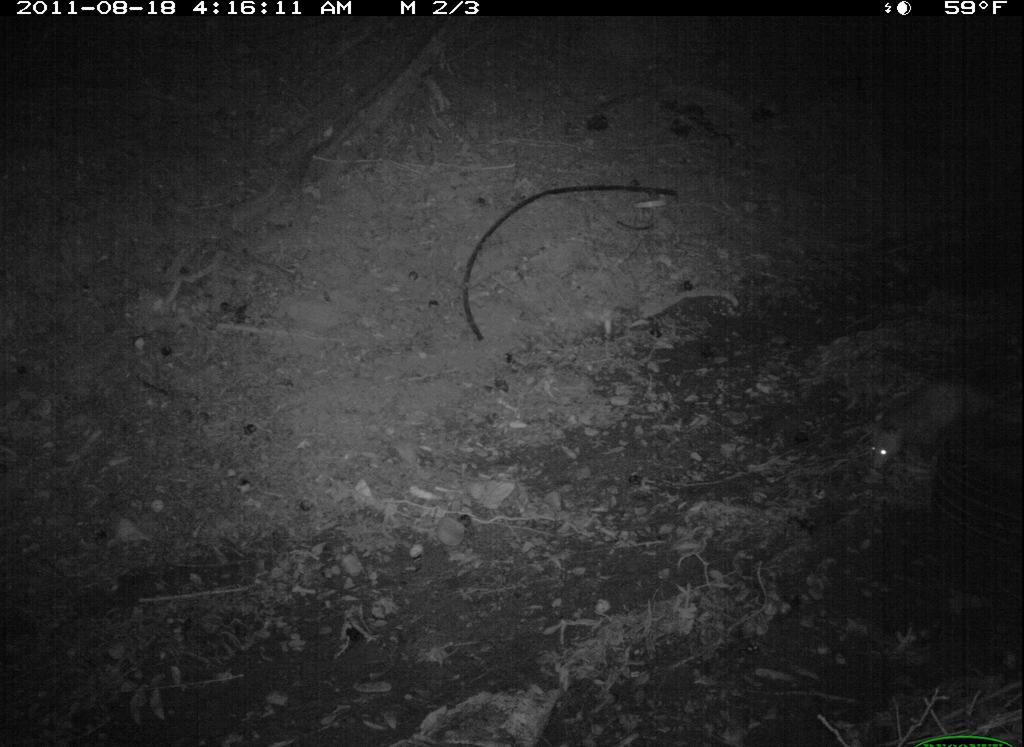opossum: (849, 369, 1020, 473)
